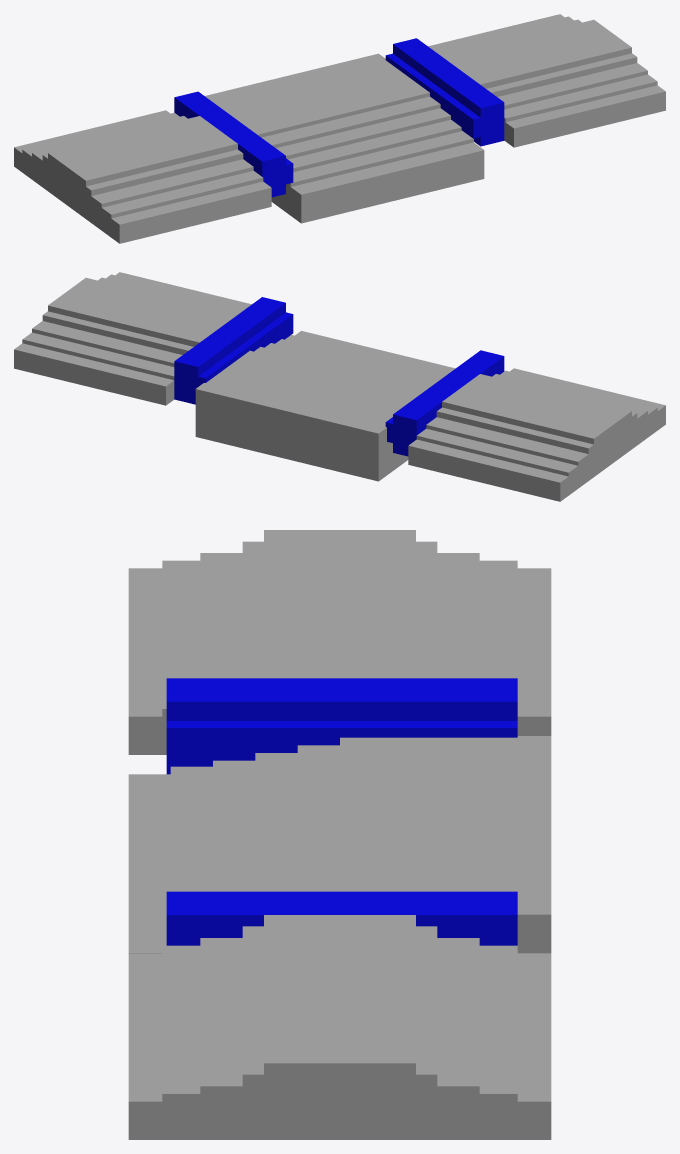
Rendered from Prime2.fbx.
3 views of the same model, one above another, from view 1: azimuth 30°, elevation 25°; view 2: azimuth 150°, elevation 25°; view 3: azimuth 270°, elevation 25° (orthographic). The views are drawn at different scales.
Parts seen in each view (by area): view 1: Caterpillar:Mesh1; view 2: Caterpillar:Mesh1; view 3: Caterpillar:Mesh1.
Boxes of the visible parts, box(x1,y1,x2,y2) form: Caterpillar:Mesh1: box(14, 14, 665, 243); Caterpillar:Mesh1: box(14, 272, 665, 501); Caterpillar:Mesh1: box(128, 530, 551, 1139).
Size of the model in its own units: 29.83 by 3.25 by 10.
2 materials, 2 textured.
